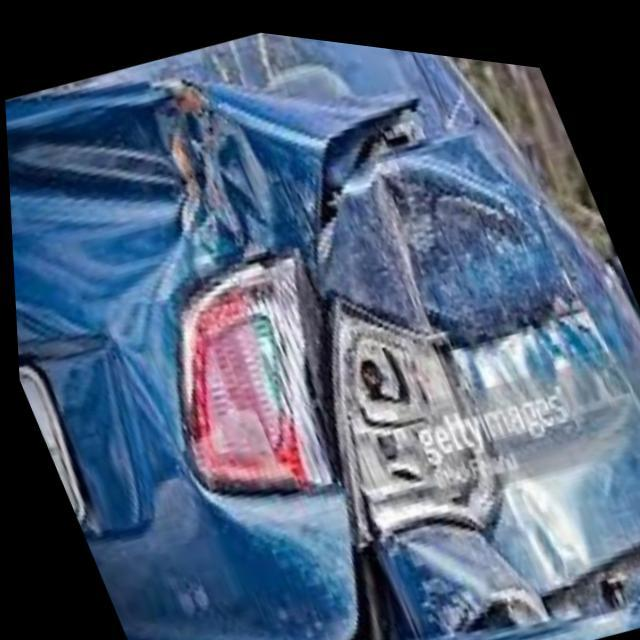crack: (4, 70, 640, 640)
lamp broken: (178, 239, 500, 521)
